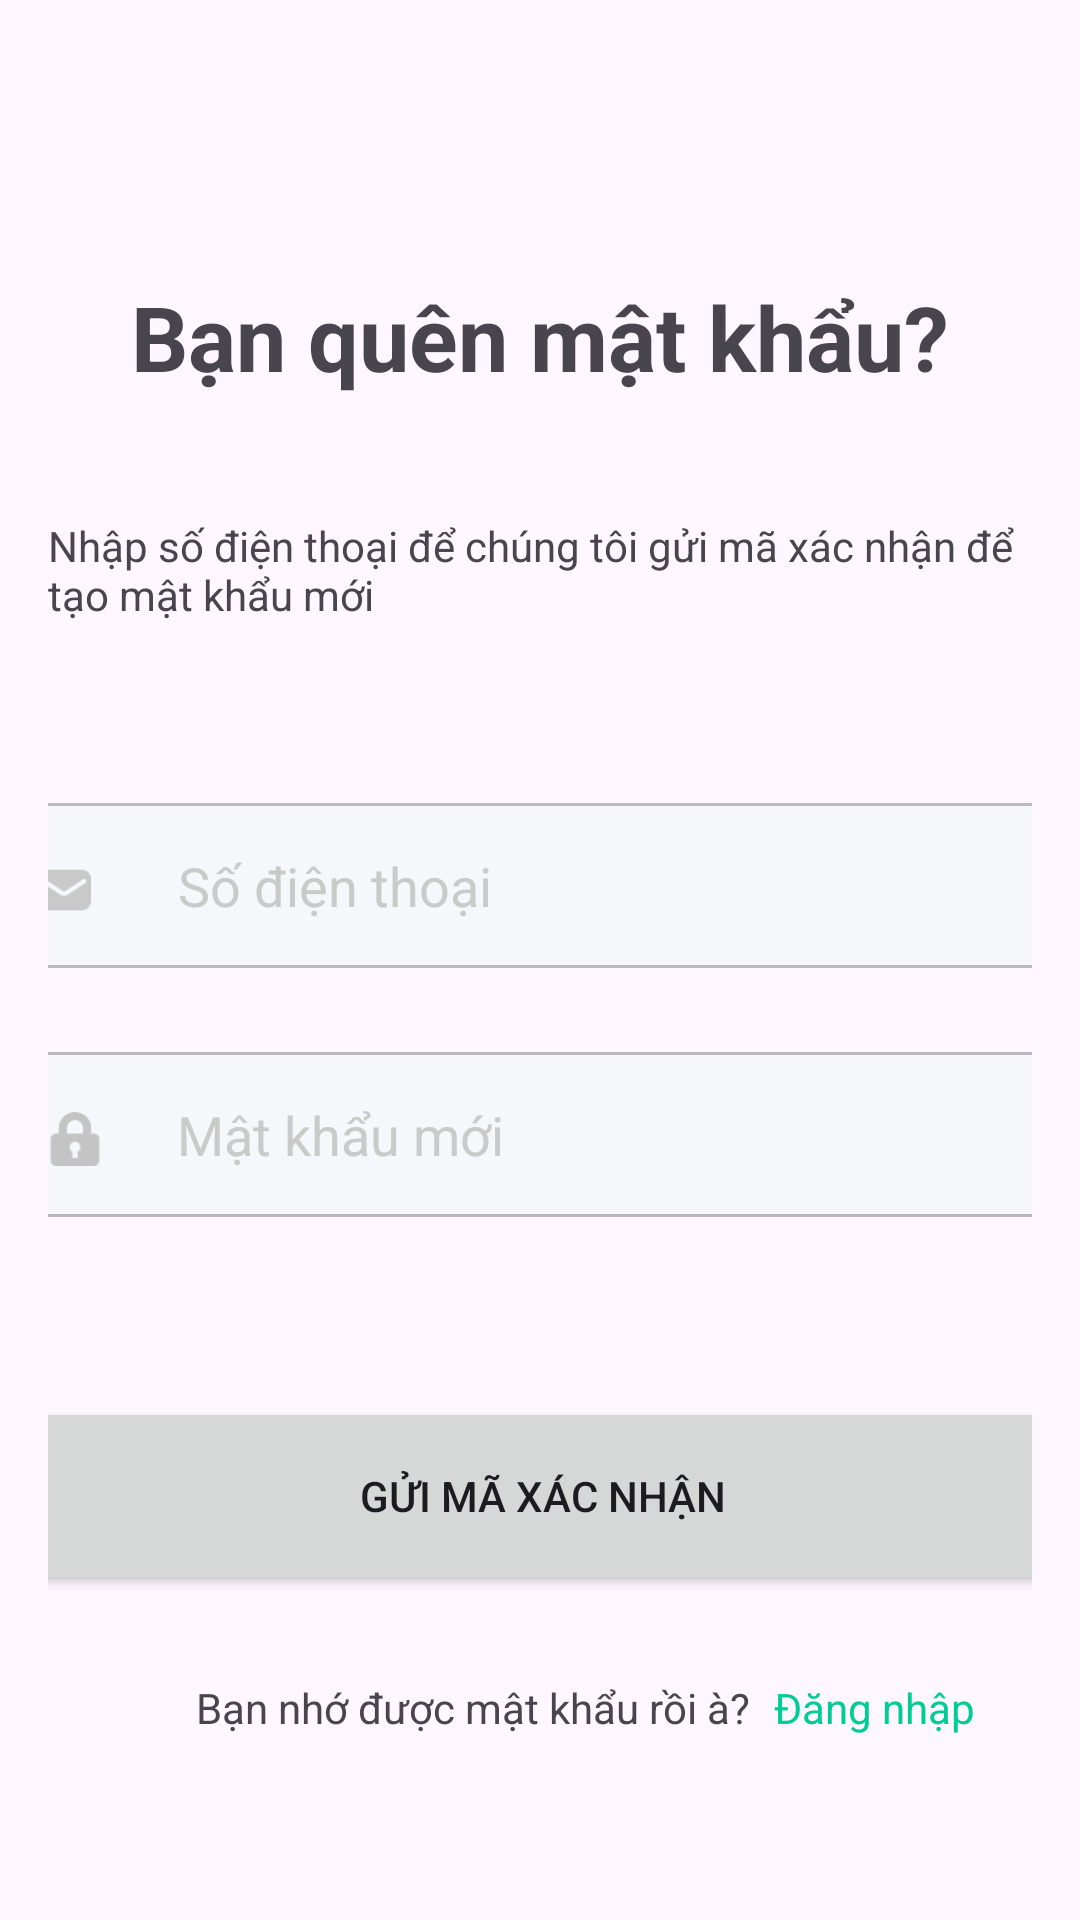

Locate icon controls on the screen. Image size 1080px x 1920px, boxes as (x1, y1, x2, y2).
email: (48, 870, 91, 910)
lock: (51, 1112, 99, 1166)
